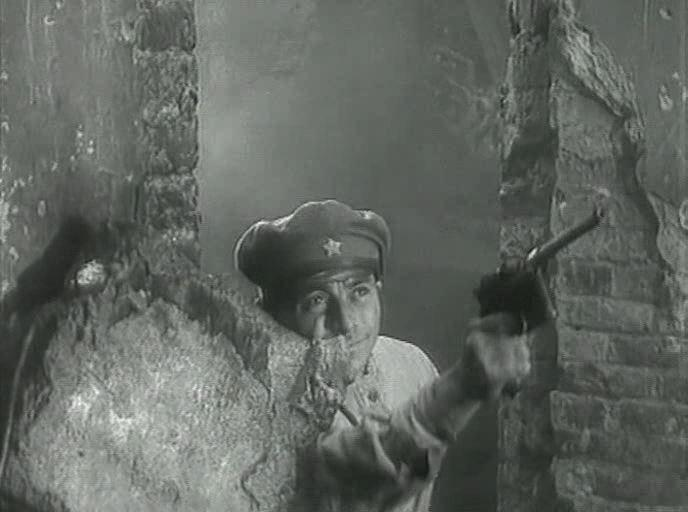gun: (461, 198, 633, 392)
